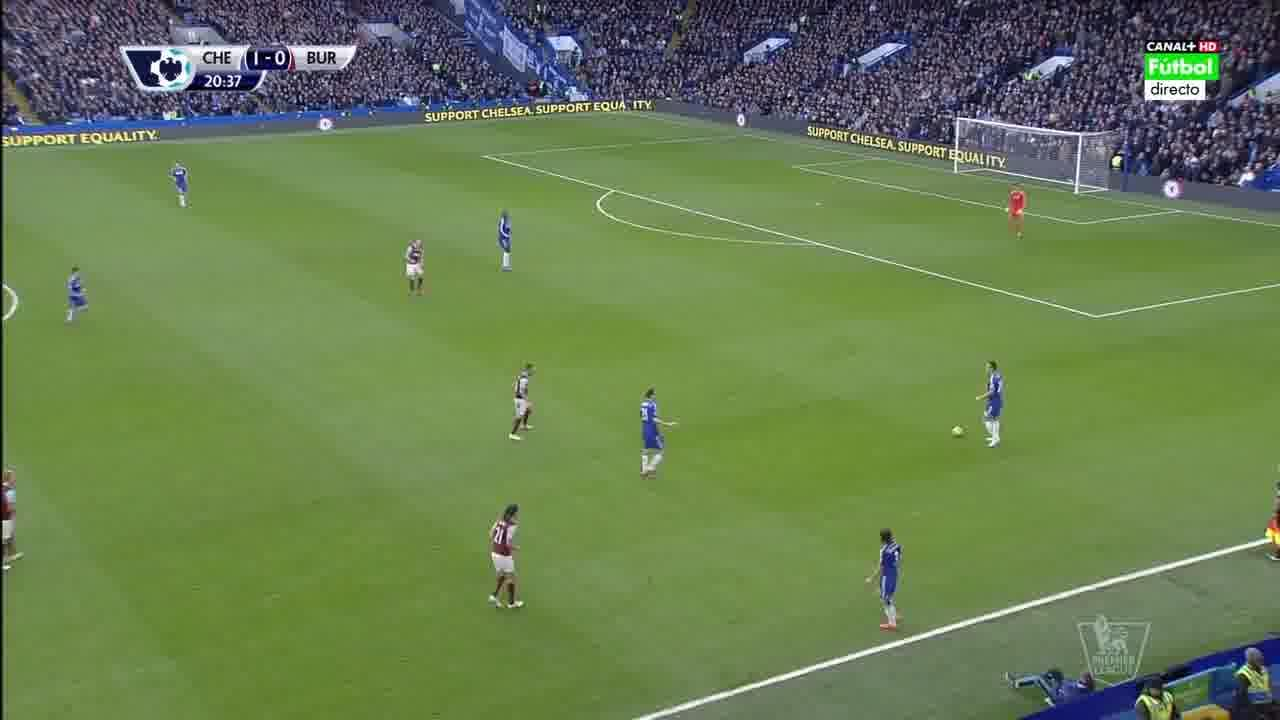football: (952, 424, 967, 440)
